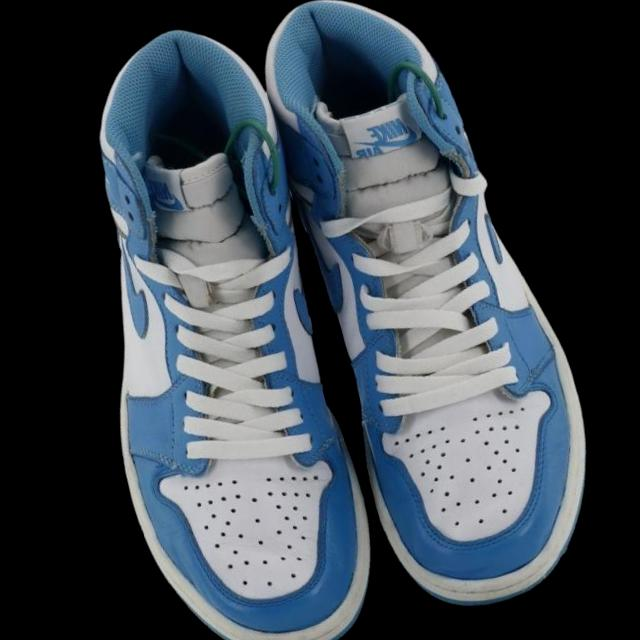nike_original_jordan: (10, 10, 407, 640), (245, 0, 631, 626)
